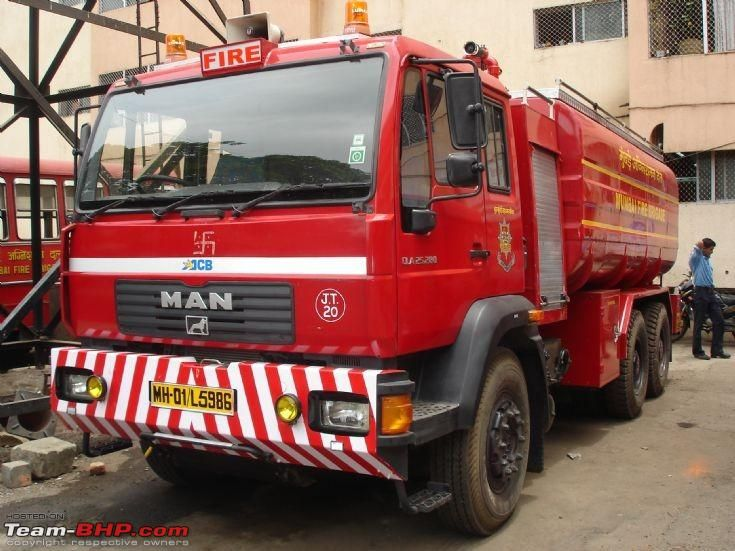fire engine: (62, 51, 672, 530)
numberplate: (140, 375, 242, 423)
